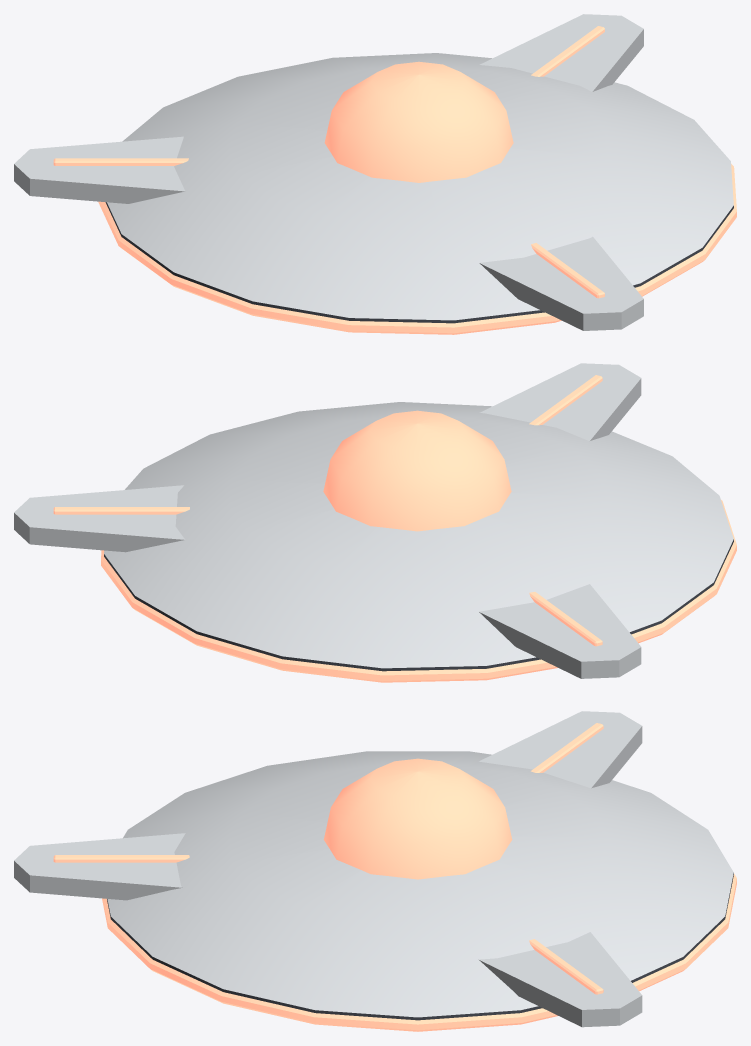
The model's file is R4D_ExplosiveTrap_LOD1.fbx.
3 renders of one model, top to bottom at view 1: azimuth 30°, elevation 25°; view 2: azimuth 150°, elevation 25°; view 3: azimuth 270°, elevation 25°, orthographic.
Parts seen in each view (by area): view 1: R4D_ExplosiveTrap_LOD1; view 2: R4D_ExplosiveTrap_LOD1; view 3: R4D_ExplosiveTrap_LOD1.
Boxes of the visible parts, <box> form: R4D_ExplosiveTrap_LOD1: <box>14,14,736,334</box>; R4D_ExplosiveTrap_LOD1: <box>14,363,736,682</box>; R4D_ExplosiveTrap_LOD1: <box>14,711,736,1031</box>.
Size of the model in its own units: 0.4464 by 0.1 by 0.4563.
